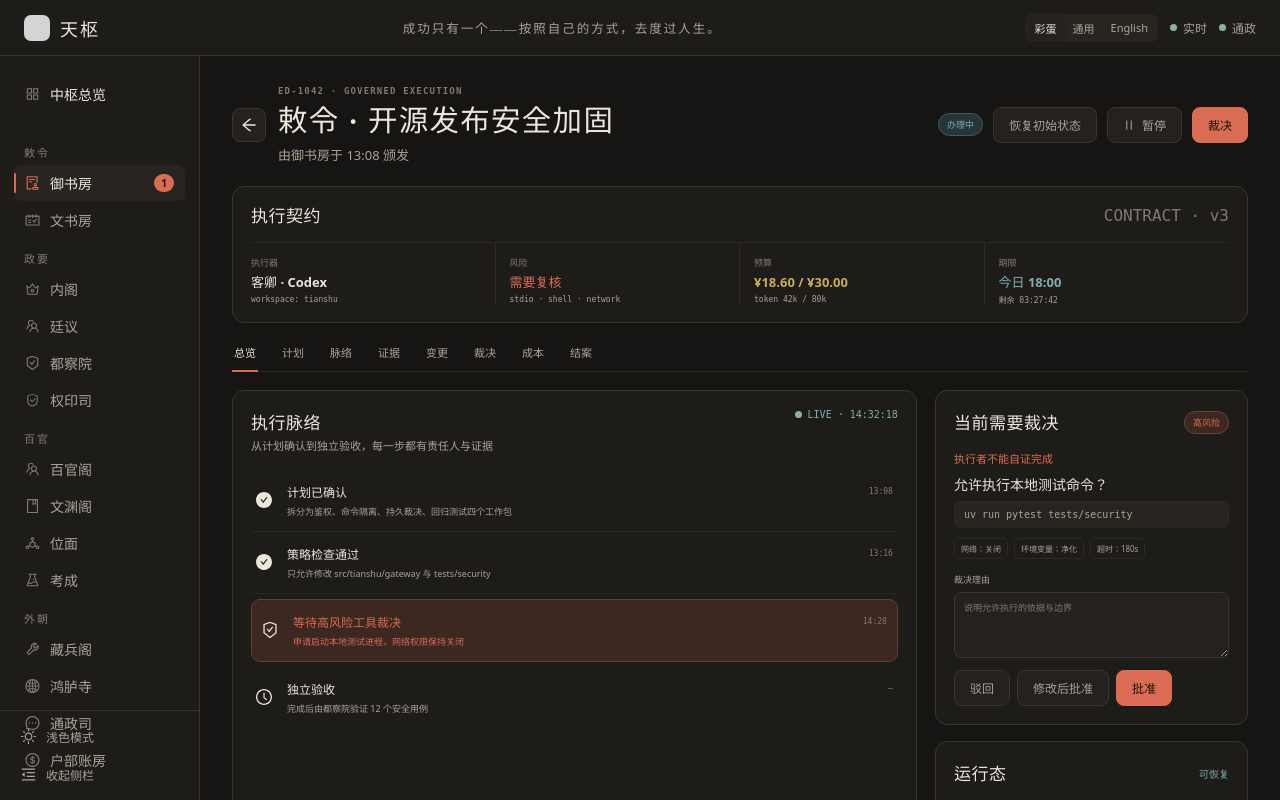
Test: Tianshu Agent OS approval prototype › does not claim a rejected decision was persisted to a real timeline
Click the button "驳回": x=982, y=688 [954, 670, 1010, 706]
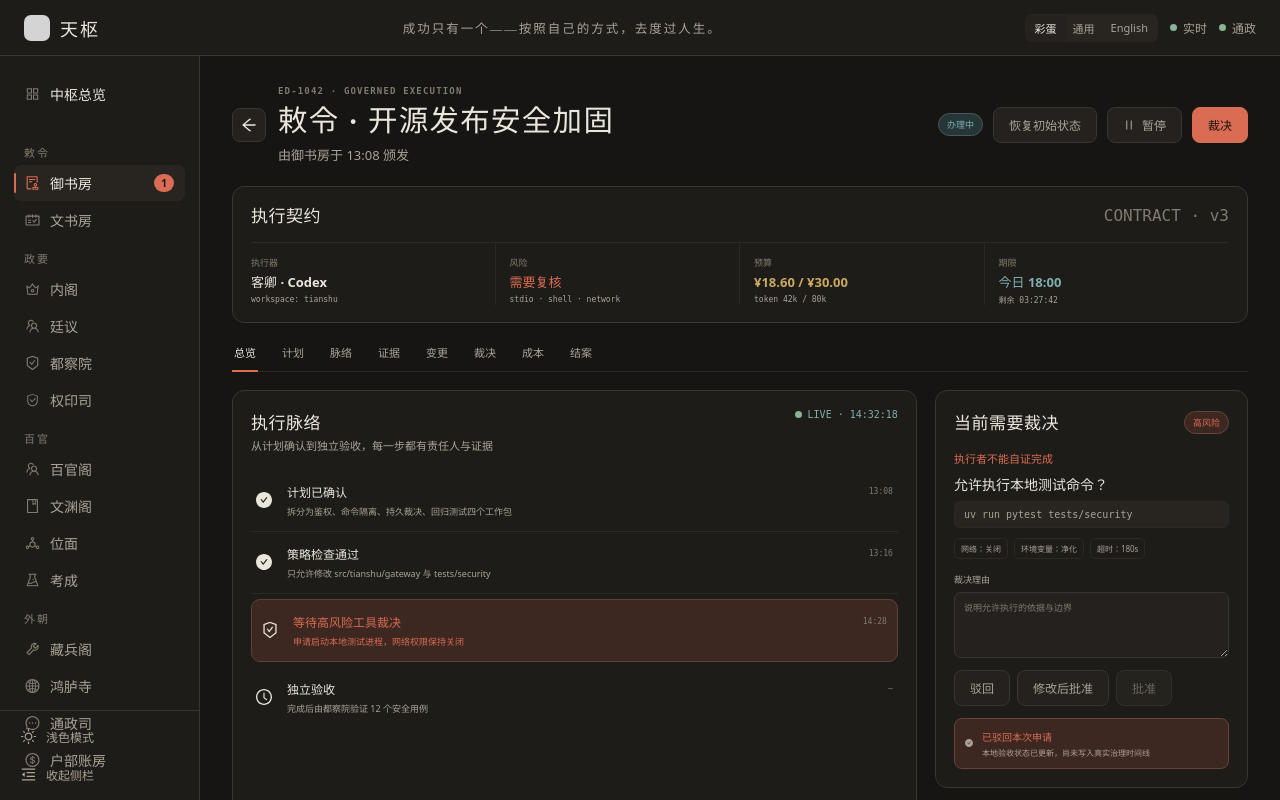
expect the message shows "本地验收状态已更新，尚未写入真实治理时间线": met, box [982, 747, 1150, 758]
